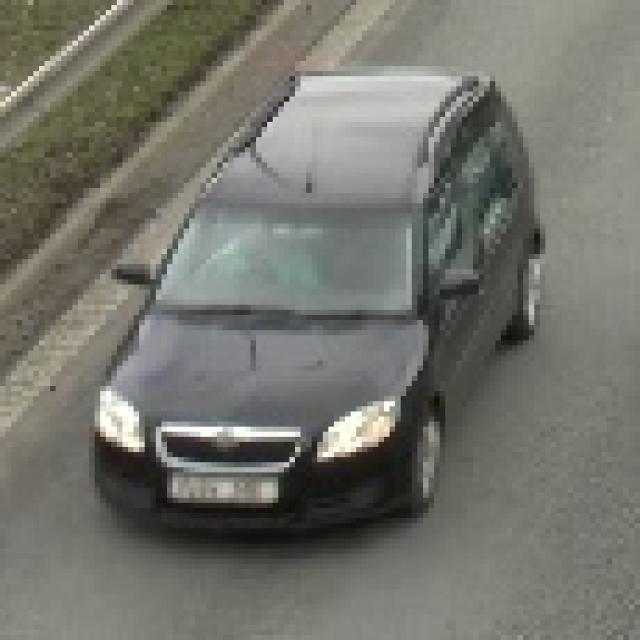SUV: (107, 79, 500, 537)
